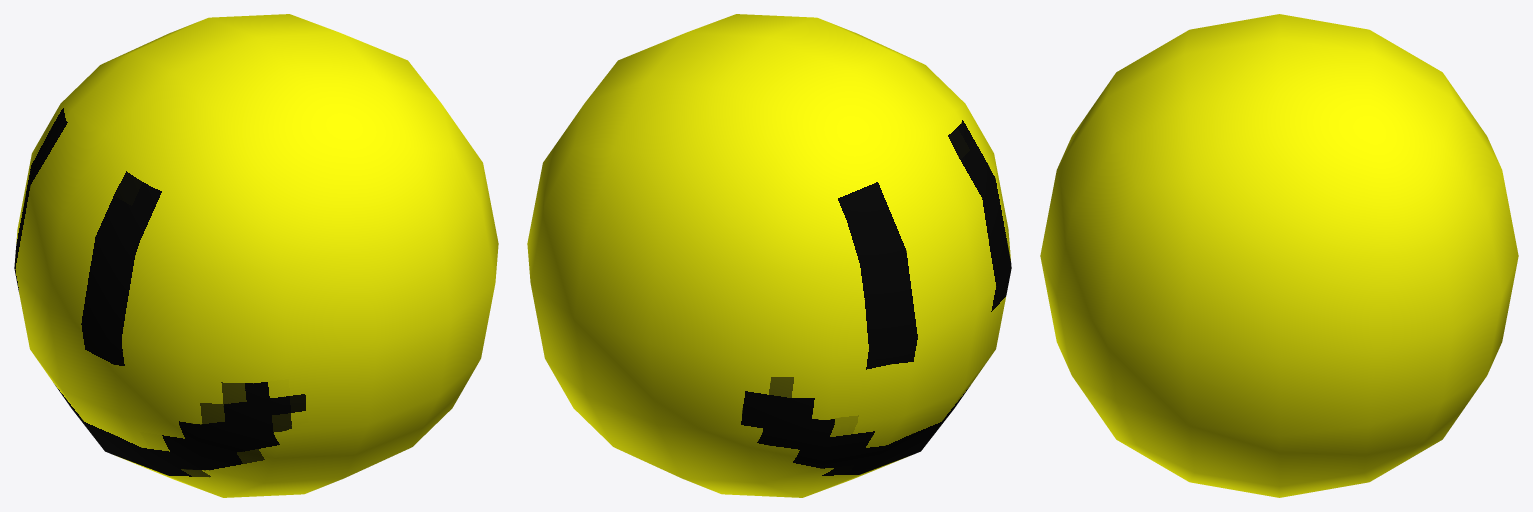
Rendered from uebanity.obj.
3 views of the same model, side by side, from view 1: azimuth 30°, elevation 25°; view 2: azimuth 150°, elevation 25°; view 3: azimuth 270°, elevation 25° (orthographic).
Parts seen in each view (by area): view 1: uebanity; view 2: uebanity; view 3: uebanity.
Part boxes in pixels (bbox=[...]): uebanity: bbox=[14, 14, 498, 497]; uebanity: bbox=[527, 14, 1011, 497]; uebanity: bbox=[1040, 14, 1518, 497].
Bounding box in the file's own units: 0.4198 × 0.4198 × 0.4198.
